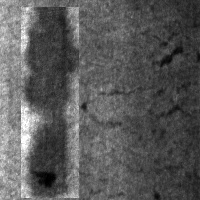crazing: (114, 66, 200, 177), (64, 23, 196, 93), (71, 80, 193, 127)
patches: (21, 7, 79, 198)
